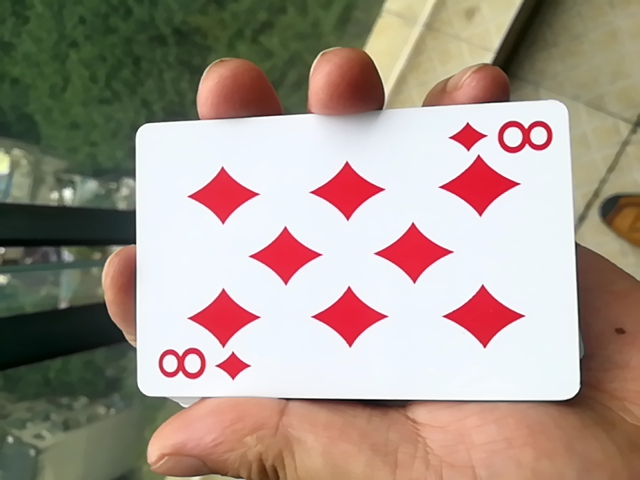fk 8: (116, 117, 575, 428)
